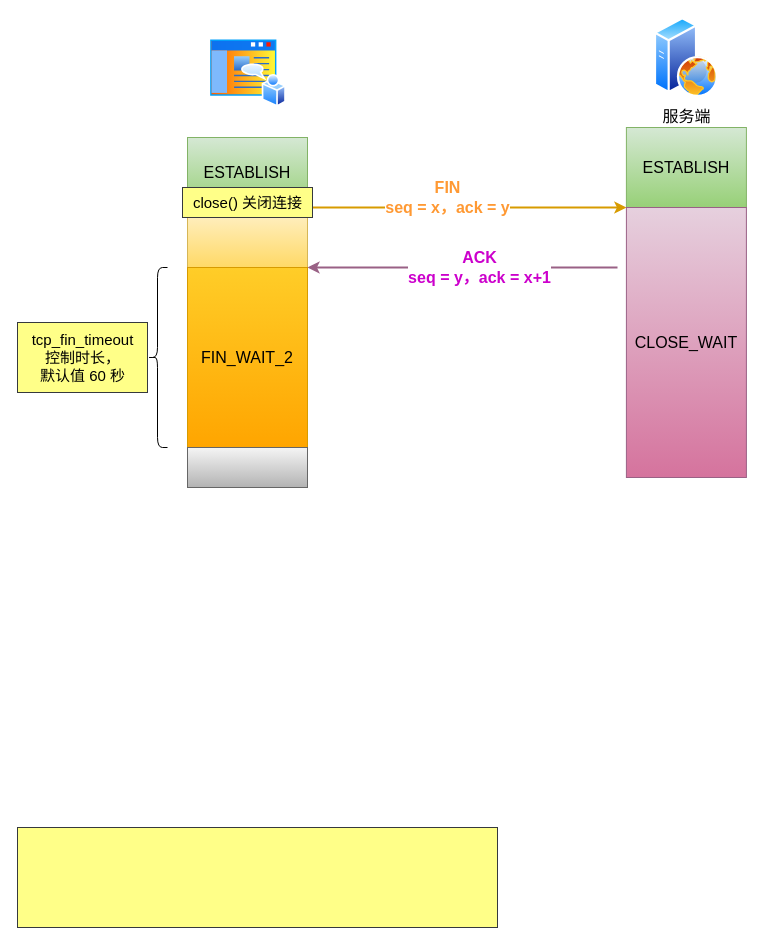
The diagram is 764 pixels wide and 945 high, and some of its shapes have lost their labels. The shapes that lost their labels are listed below. From the top down, each one's centre as x and y in pixels, then its label:
(x=247, y=72): 客户端
(x=247, y=237): FIN_WAIT_1
(x=247, y=467): CLOSE
(x=257, y=877): FIN 报文重传次数， 如超过 tcp_orphan_retries 参数的值， 则会在等待一段时间， 还是没能收到第二次挥手的话， 就会断开连接
